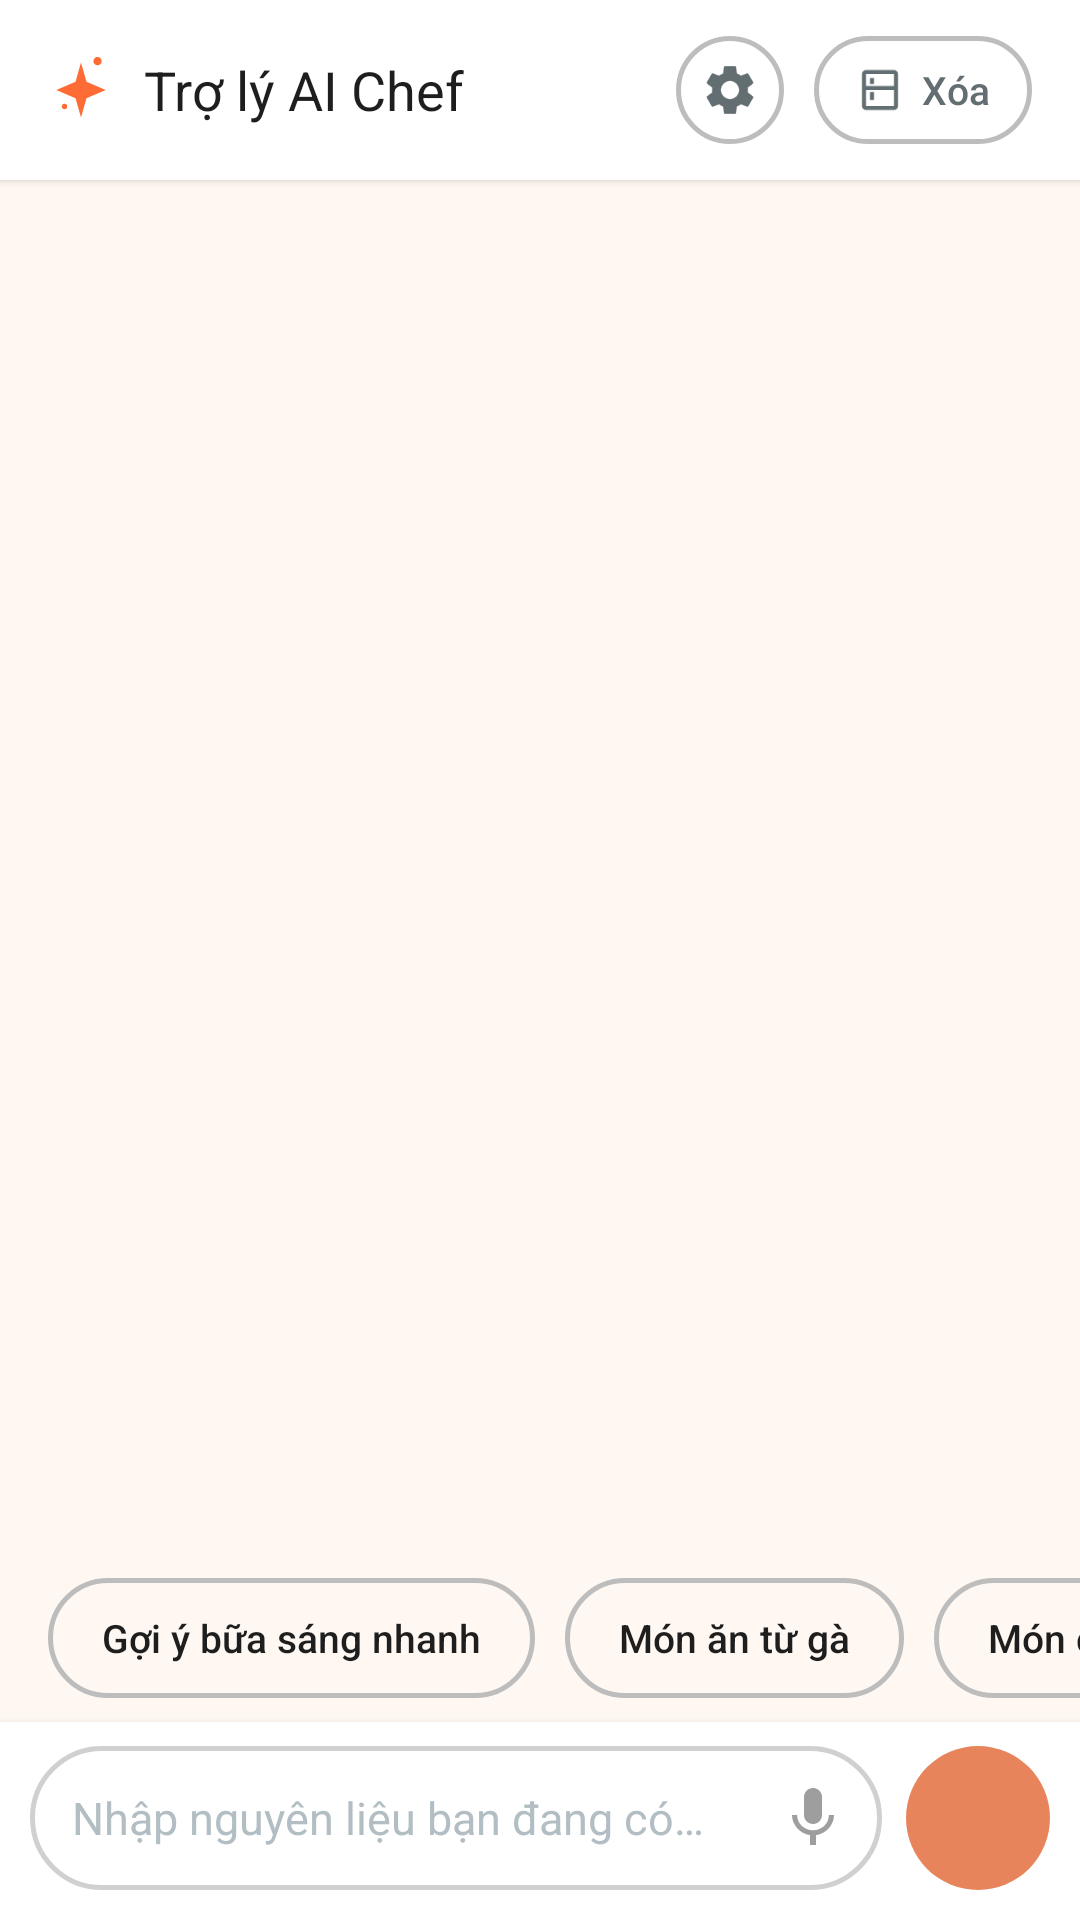

Named icons in this screenshot (1080×1920) and their bounding boxes, [x1=x1, y1=y1, x2=x2, y2=y2]:
Cấu hình API Key: [x1=676, y1=36, x2=784, y2=144]
Voice input: [x1=792, y1=1788, x2=834, y2=1845]
